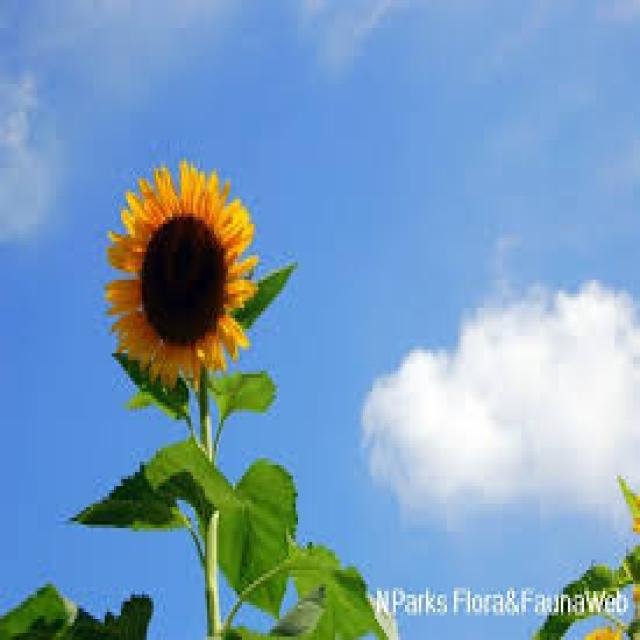sunflower: (100, 159, 266, 398)
